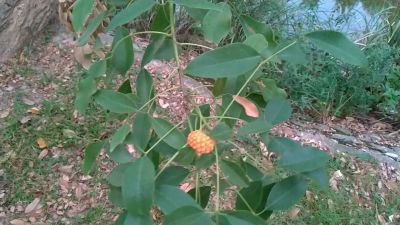eggs: (177, 128, 219, 156)
